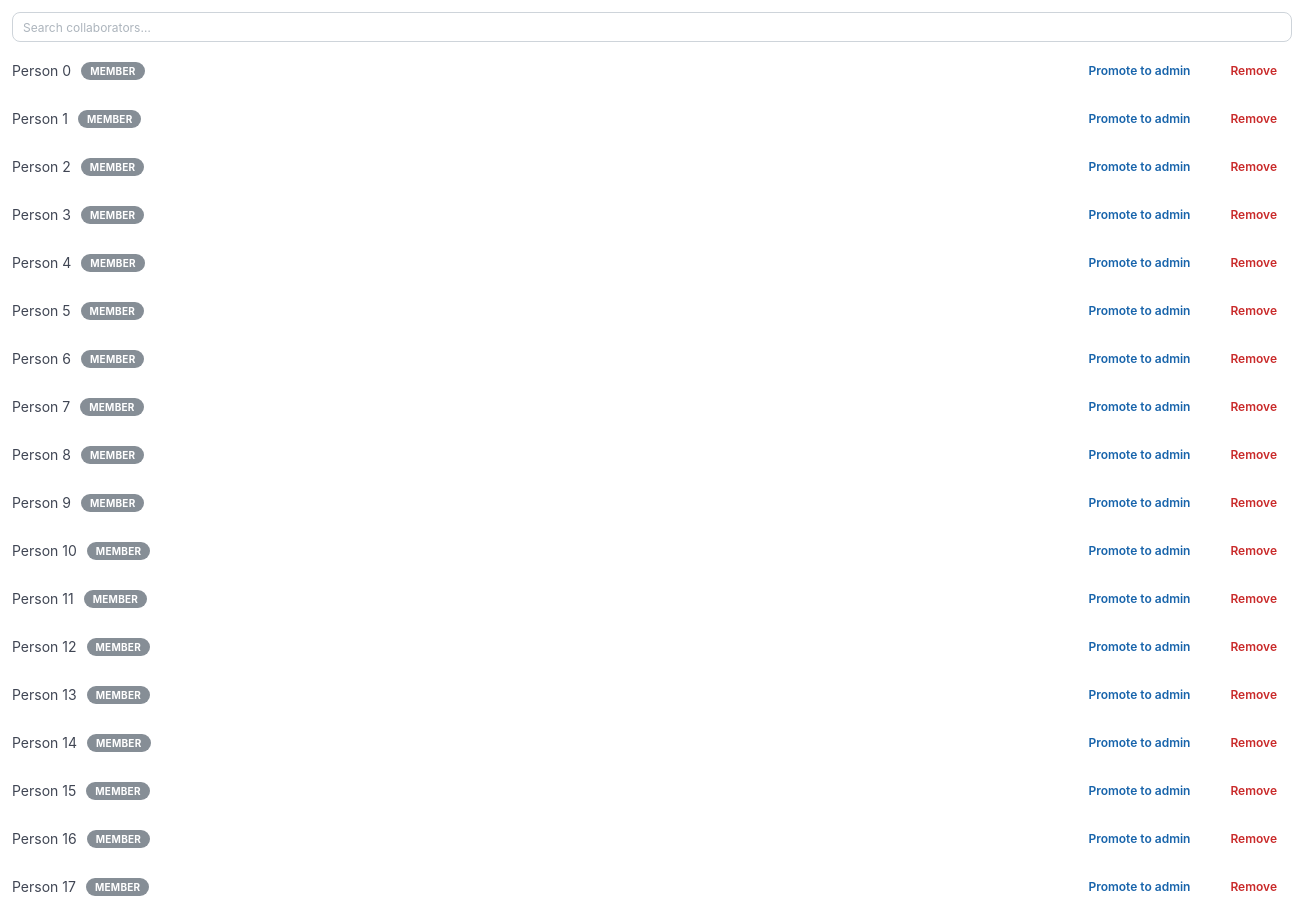
it: CollaboratorsPanel — search and pagination › filters by search term client-side
Type "Person 25" into the field with placeholder "Search collaborators…".
click(652, 27); type("Person 25")  # box [12,12,1292,42]
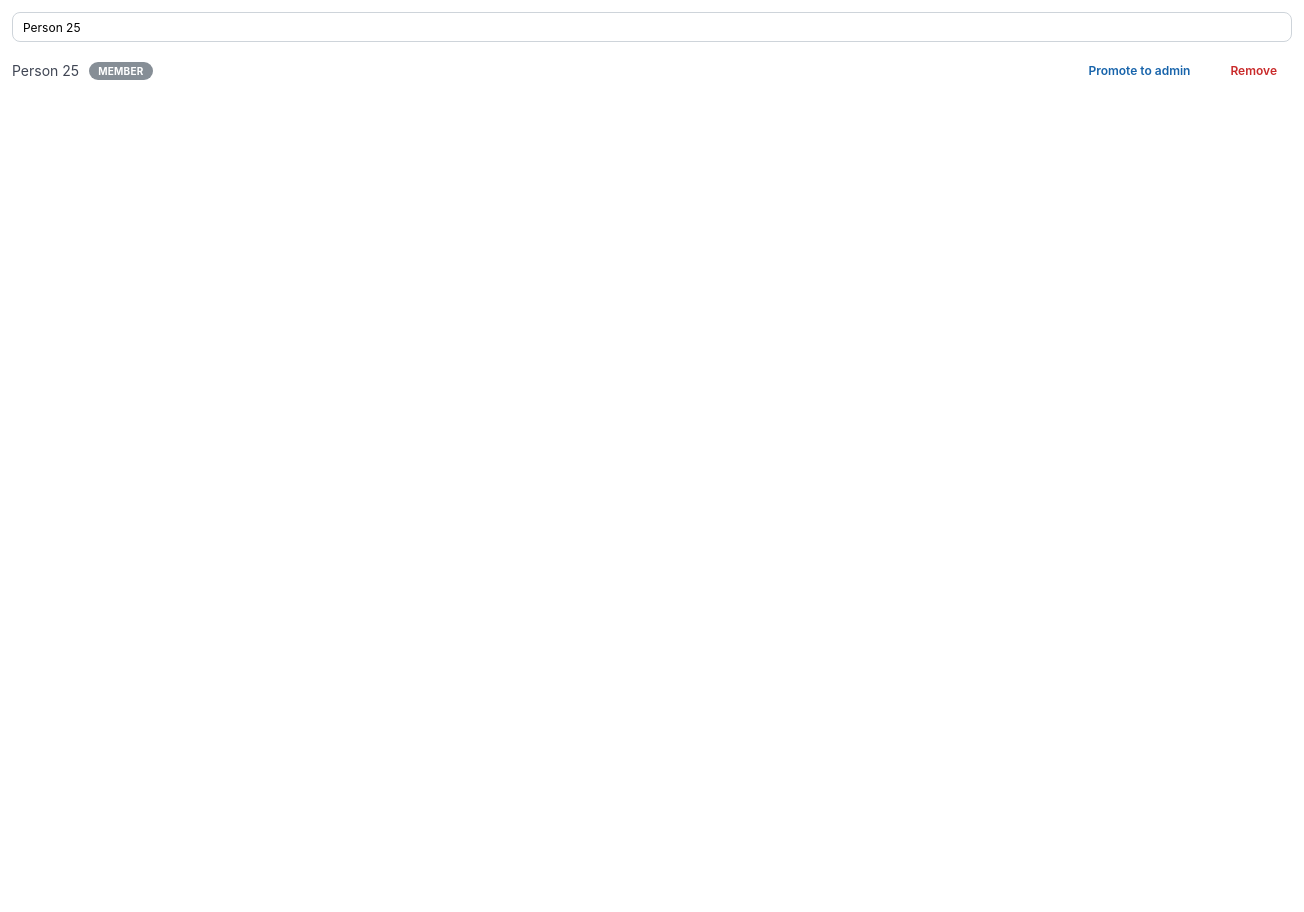
Result: the text "Person 25" is shown at [12,61,79,81]
Result: the text "Person 0" is gone
